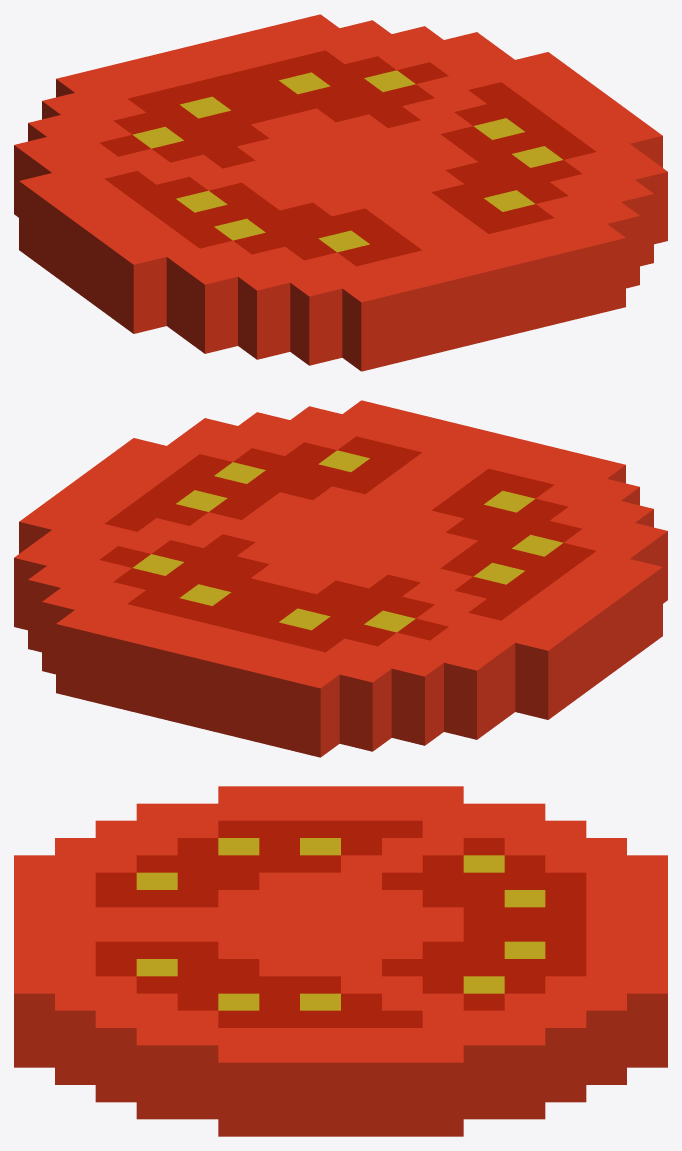
File: Tomato.obj
The picture shows the model from 3 angles, top to bottom: view 1: azimuth 30°, elevation 25°; view 2: azimuth 150°, elevation 25°; view 3: azimuth 270°, elevation 25°; orthographic projection. The views are drawn at different scales.
Bounding box in the file's own units: 1.6 × 0.2 × 1.6.
Materials: 1 (1 with a texture image).
